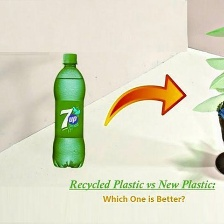bottle: (48, 51, 87, 169)
